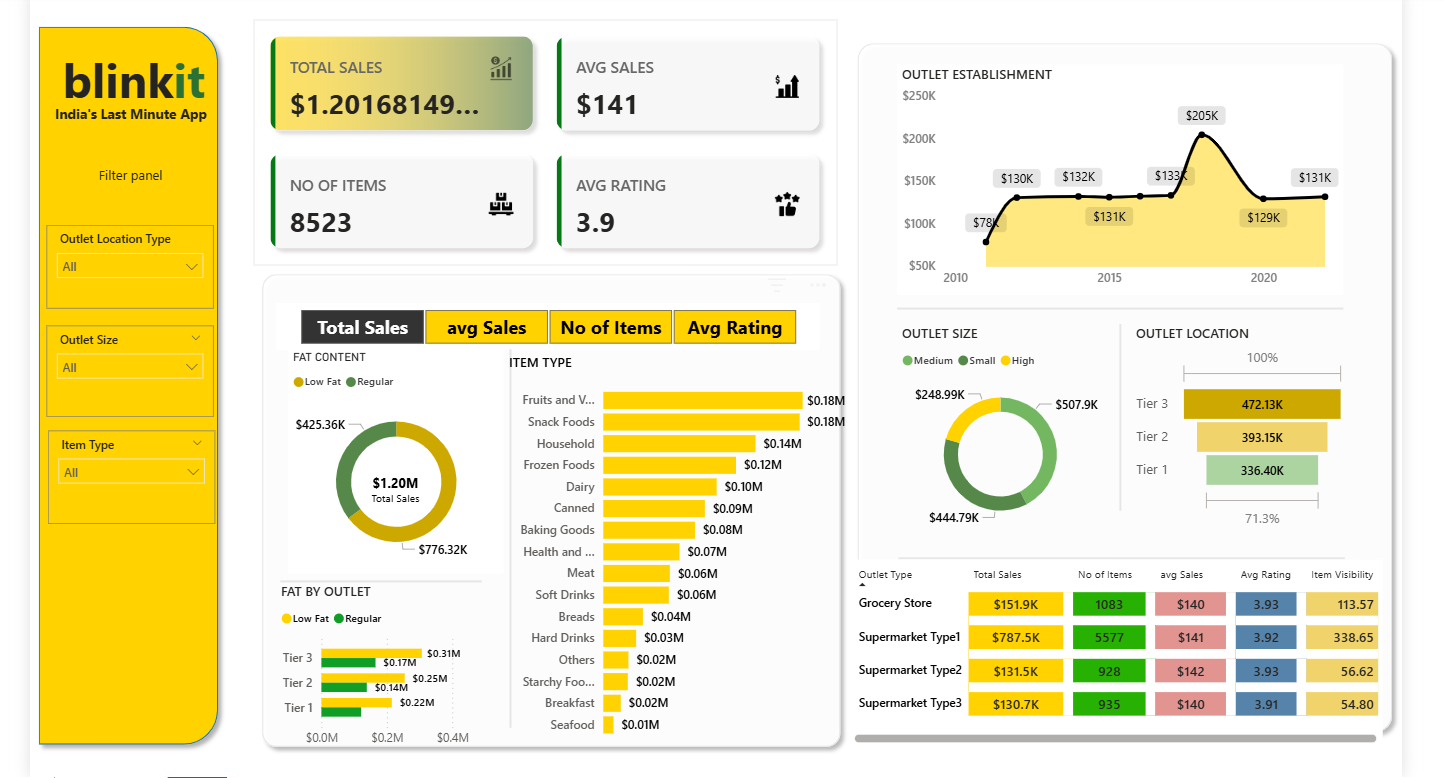

Layout of this report page (visuals, bound fields, positions):
{"tool":"powerbi","page":{"name":"Page 1","canvas":[1400,800],"ordinal":0},"visuals":[{"type":"shape","box":[0,24.3,200.8,750.4],"z":0},{"type":"textbox","box":[22.3,48.7,166.3,87.2],"z":1000},{"type":"textbox","box":[4.1,107.5,196.7,28.4],"z":2000},{"type":"cardVisual","fields":{"Data":["BlinkIT Grocery Data.Total Sales","BlinkIT Grocery Data.avg Sales","BlinkIT Grocery Data.No of Items","BlinkIT Grocery Data.Avg Rating"]},"box":[228.6,26.5,594.6,250.1],"z":3000},{"type":"shape","box":[228.6,276.6,607.8,500.2],"z":4000},{"type":"donutChart","title":"FAT CONTENT","fields":{"Y":["BlinkIT Grocery Data.Total Sales"],"Category":["BlinkIT Grocery Data.Item Fat Content"]},"box":[263.3,362.7,220.3,228.6],"z":5000},{"type":"slicer","fields":{"Values":["metrics.metrics"]},"box":[251.7,314.7,554.8,48],"z":6000},{"type":"clusteredBarChart","title":" FAT BY OUTLET","fields":{"Y":["BlinkIT Grocery Data.Total Sales"],"Category":["BlinkIT Grocery Data.Outlet Location Type"],"Series":["BlinkIT Grocery Data.Item Fat Content"]},"box":[251.7,599.5,210.3,177.2],"z":7000},{"type":"cardVisual","fields":{"Data":["BlinkIT Grocery Data.Total Sales"]},"box":[324.5,468.5,97.3,73],"z":8000},{"type":"shape","box":[255,576.3,205.4,44.7],"z":9000},{"type":"shape","box":[483.6,362.7,13.2,385.9],"z":10000},{"type":"barChart","title":" ITEM TYPE","fields":{"Y":["BlinkIT Grocery Data.Total Sales"],"Category":["BlinkIT Grocery Data.Item Type"]},"box":[483.6,366,352.8,402.4],"z":11000},{"type":"shape","box":[836.4,41.4,563.1,720.4],"z":12000},{"type":"lineChart","title":" OUTLET ESTABLISHMENT","fields":{"Category":["BlinkIT Grocery Data.Outlet Establishment Year"],"Y":["BlinkIT Grocery Data.Total Sales"]},"box":[884.4,71.2,455.4,235.2],"z":13000},{"type":"donutChart","title":"OUTLET SIZE","fields":{"Y":["BlinkIT Grocery Data.Total Sales"],"Category":["BlinkIT Grocery Data.Outlet Size"]},"box":[884.4,336.2,210.3,220.3],"z":14000},{"type":"shape","box":[884.4,306.4,455.4,29.8],"z":15000},{"type":"shape","box":[1094.7,336.2,36.4,190.5],"z":16000},{"type":"funnel","title":"OUTLET LOCATION","fields":{"Y":["Sum(BlinkIT Grocery Data.Sales)"],"Category":["BlinkIT Grocery Data.Outlet Location Type"]},"box":[1122.9,336.2,223.6,212],"z":17000},{"type":"shape","box":[886,561.4,455.4,28.2],"z":18000},{"type":"pivotTable","fields":{"Rows":["BlinkIT Grocery Data.Outlet Type"],"Values":["BlinkIT Grocery Data.Total Sales","BlinkIT Grocery Data.No of Items","BlinkIT Grocery Data.avg Sales","BlinkIT Grocery Data.Avg Rating","Sum(BlinkIT Grocery Data.Item Visibility)"]},"box":[836.4,576.3,544.9,192.1],"z":19000},{"type":"slicer","fields":{"Values":["BlinkIT Grocery Data.Outlet Location Type"]},"box":[16.2,235.3,170.4,85.2],"z":20000},{"type":"slicer","fields":{"Values":["BlinkIT Grocery Data.Outlet Size"]},"box":[16.2,338.7,170.4,93.3],"z":21000},{"type":"slicer","fields":{"Values":["BlinkIT Grocery Data.Item Type"]},"box":[18.3,446.2,170.4,95.3],"z":22000},{"type":"textbox","box":[42.6,170.4,119.7,44.6],"z":23000}]}

Visuals, with their boxes on the page's 1400x800 design canvas (x1, y1, x2, y2). These are canvas units, not pixel positions in the 1444x778 screenshot, which may show the page scaled, cropped or inside an application window:
shape: [0,24,201,775]
textbox: [22,49,189,136]
textbox: [4,108,201,136]
cardVisual - BlinkIT Grocery Data.Total Sales x BlinkIT Grocery Data.avg Sales: [229,26,823,277]
shape: [229,277,836,777]
"FAT CONTENT" donutChart: [263,363,484,591]
slicer - metrics.metrics: [252,315,806,363]
" FAT BY OUTLET" clusteredBarChart: [252,600,462,777]
cardVisual - BlinkIT Grocery Data.Total Sales: [324,468,422,542]
shape: [255,576,460,621]
shape: [484,363,497,749]
" ITEM TYPE" barChart: [484,366,836,768]
shape: [836,41,1400,762]
" OUTLET ESTABLISHMENT" lineChart: [884,71,1340,306]
"OUTLET SIZE" donutChart: [884,336,1095,556]
shape: [884,306,1340,336]
shape: [1095,336,1131,527]
"OUTLET LOCATION" funnel: [1123,336,1346,548]
shape: [886,561,1341,590]
pivotTable - BlinkIT Grocery Data.Outlet Type x BlinkIT Grocery Data.Total Sales: [836,576,1381,768]
slicer - BlinkIT Grocery Data.Outlet Location Type: [16,235,187,320]
slicer - BlinkIT Grocery Data.Outlet Size: [16,339,187,432]
slicer - BlinkIT Grocery Data.Item Type: [18,446,189,542]
textbox: [43,170,162,215]
